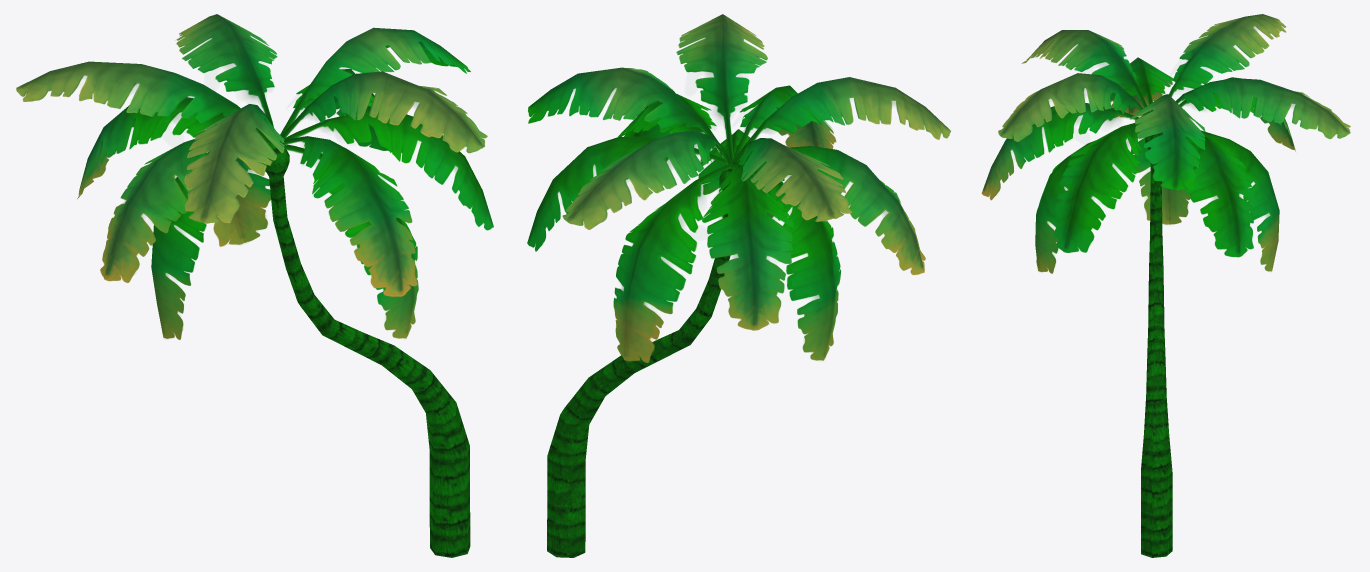
The model's file is palm.glb.
The picture shows the model from 3 angles, left to right: view 1: azimuth 30°, elevation 25°; view 2: azimuth 150°, elevation 25°; view 3: azimuth 270°, elevation 25°; orthographic projection. The views are drawn at different scales.
Visible parts, largest first — view 1: Bark_1_Bark_1_0; view 2: Bark_1_Bark_1_0; view 3: Bark_1_Bark_1_0.
Boxes of the visible parts, <box> form: Bark_1_Bark_1_0: <box>16,14,493,557</box>; Bark_1_Bark_1_0: <box>527,14,950,557</box>; Bark_1_Bark_1_0: <box>981,14,1350,557</box>.
Bounding box in the file's own units: 3.03 × 3.91 × 3.07.
4 materials, 4 textured.
